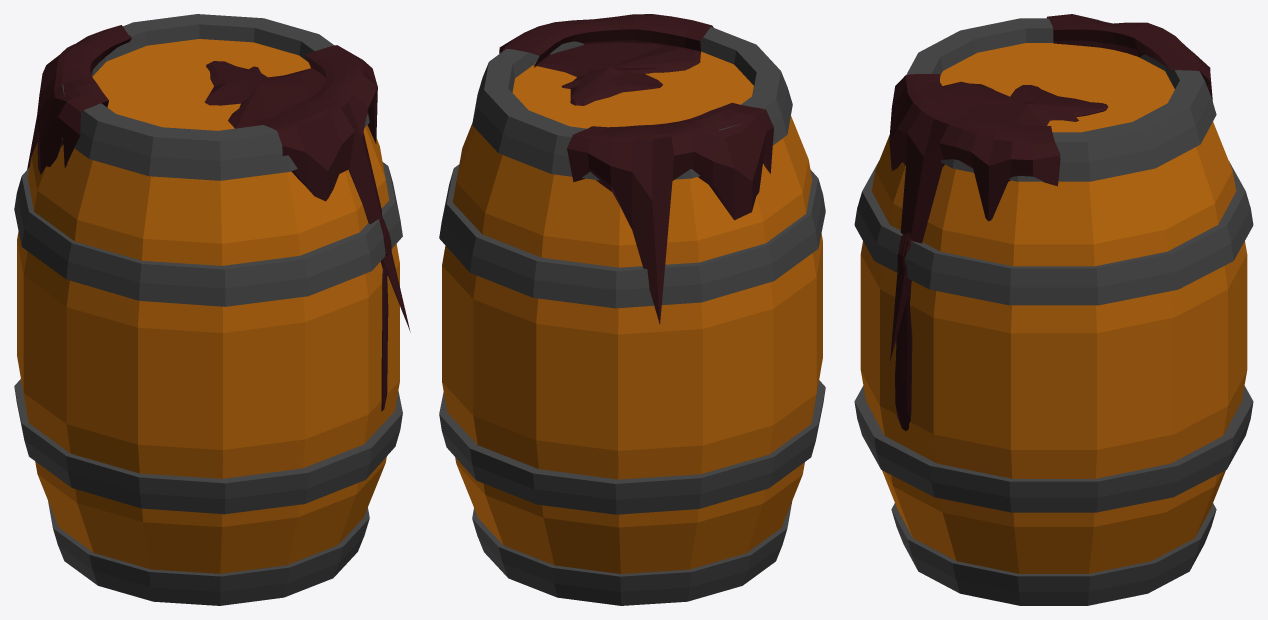
File: OilBarrel.glb
3 views of the same model, side by side, from view 1: azimuth 30°, elevation 25°; view 2: azimuth 150°, elevation 25°; view 3: azimuth 270°, elevation 25° (orthographic).
Visible parts, largest first — view 1: 円柱, トーラス, 円柱.003, 円柱.001, 円柱.004, 円柱.002, 円柱.005, 立方体; view 2: 円柱, トーラス, 円柱.003, 円柱.004, 円柱.001, 円柱.002, 円柱.005; view 3: 円柱, トーラス, 円柱.003, 円柱.004, 円柱.001, 円柱.002, 円柱.005, 立方体.
Part boxes in pixels (x1,y1,x2,y2): 円柱: (17,39,399,573); トーラス: (27,25,410,332); 円柱.003: (14,162,402,306); 円柱.001: (62,14,369,180); 円柱.004: (14,379,402,514); 円柱.002: (48,501,369,605); 円柱.005: (204,61,325,128); 立方体: (381,265,388,411); 円柱: (442,51,822,573); トーラス: (499,14,773,324); 円柱.003: (439,164,825,308); 円柱.004: (439,380,825,514); 円柱.001: (472,27,792,180); 円柱.002: (472,501,792,605); 円柱.005: (533,42,701,105); 円柱: (860,43,1247,573); トーラス: (889,14,1212,361); 円柱.003: (854,161,1253,305); 円柱.004: (854,386,1253,512); 円柱.001: (906,18,1216,181); 円柱.002: (891,503,1216,605); 円柱.005: (942,81,1108,125); 立方体: (895,284,912,431).
Bounding box in the file's own units: 3.6 × 4.94 × 3.79.
